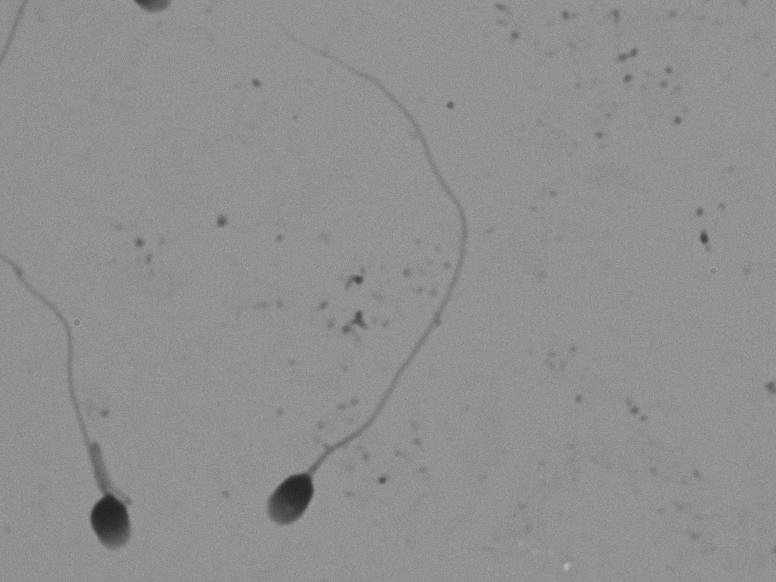Abnormal: (18, 232, 183, 568)
Normal: (223, 36, 524, 540)
